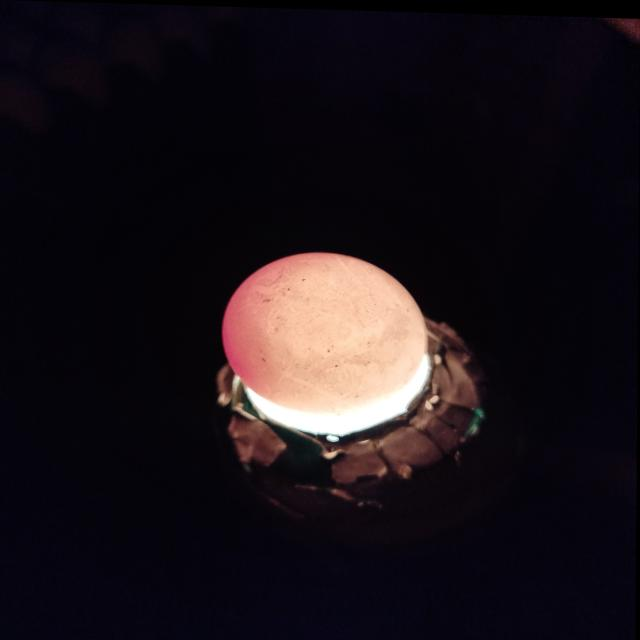Gema Quebrada: (222, 250, 322, 402)
